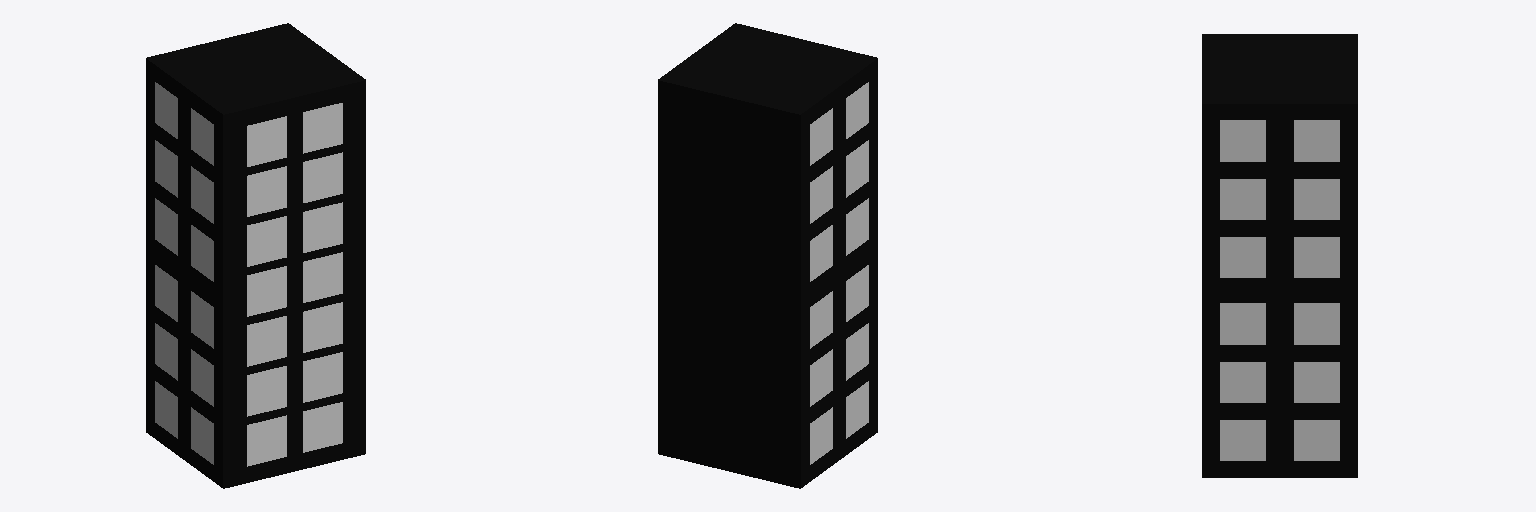
3 renders of one model, left to right at view 1: azimuth 30°, elevation 25°; view 2: azimuth 150°, elevation 25°; view 3: azimuth 270°, elevation 25°, orthographic.
Size of the model in its own units: 18 by 45 by 17.
Materials: 1 (1 with a texture image).